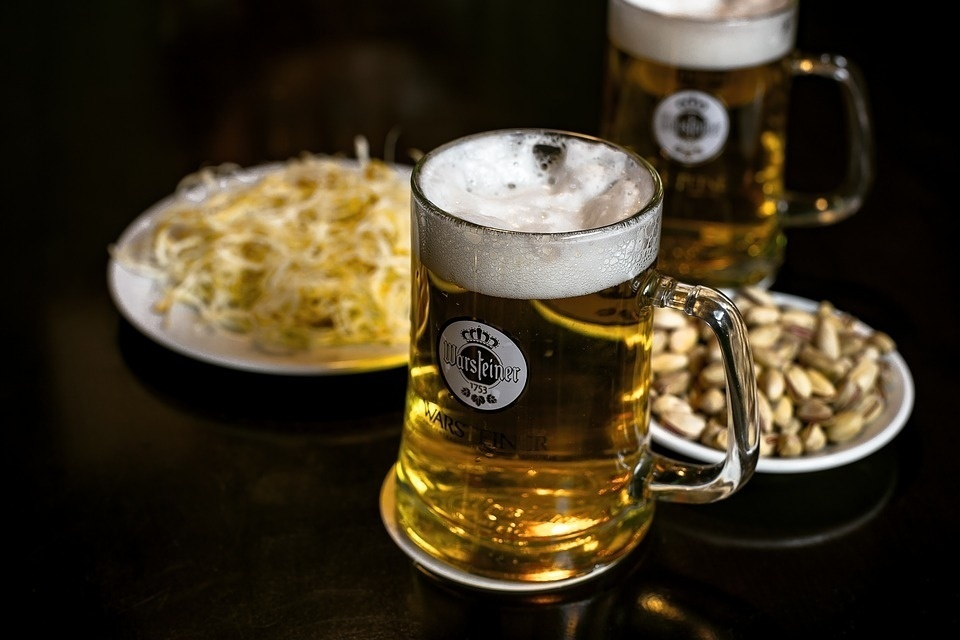whiskey: (374, 145, 685, 577)
